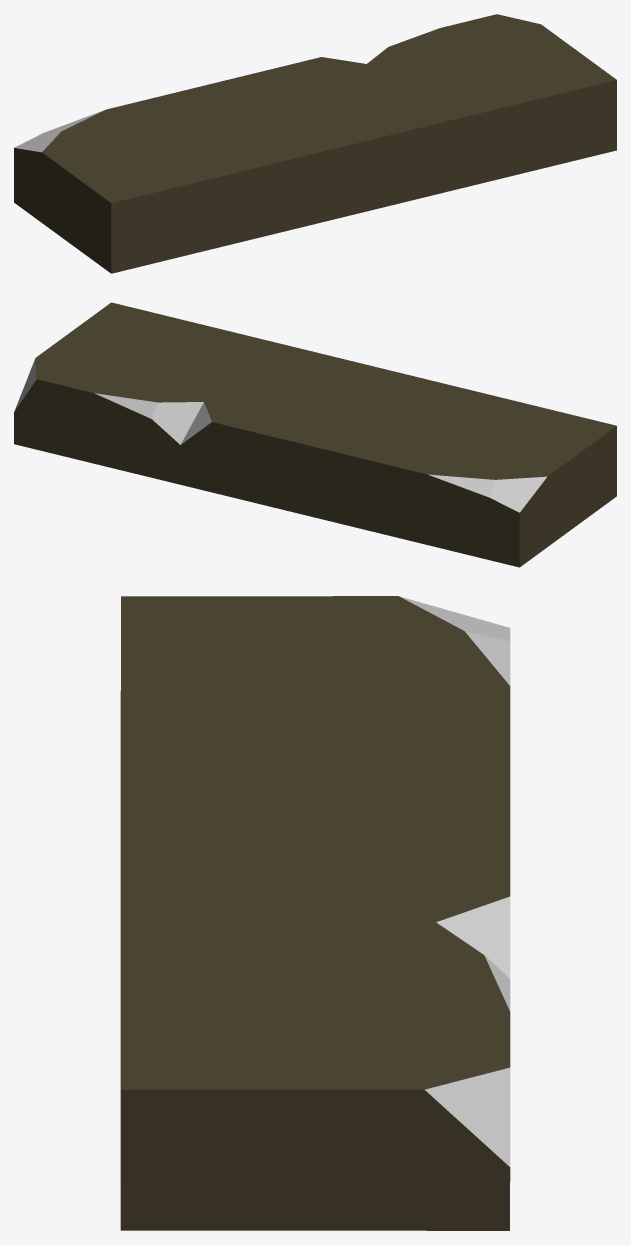
File: NW_EVT_CEMENTARYSTEP_01.OBJ
3 renders of one model, top to bottom at view 1: azimuth 30°, elevation 25°; view 2: azimuth 150°, elevation 25°; view 3: azimuth 270°, elevation 25°, orthographic. The views are drawn at different scales.
Parts seen in each view (by area): view 1: NW_EVT_CEMENTARYSTEP_01; view 2: NW_EVT_CEMENTARYSTEP_01; view 3: NW_EVT_CEMENTARYSTEP_01.
Part boxes in pixels (x1,y1,x2,y2): NW_EVT_CEMENTARYSTEP_01: (14,14,616,273); NW_EVT_CEMENTARYSTEP_01: (14,302,616,567); NW_EVT_CEMENTARYSTEP_01: (120,596,510,1230).
Size of the model in its own units: 1.8 by 0.24 by 0.6002.
